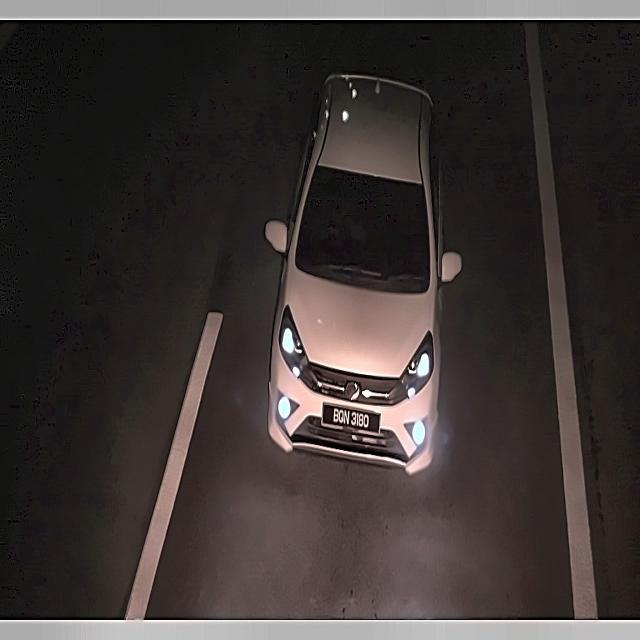car: (320, 396, 382, 440)
